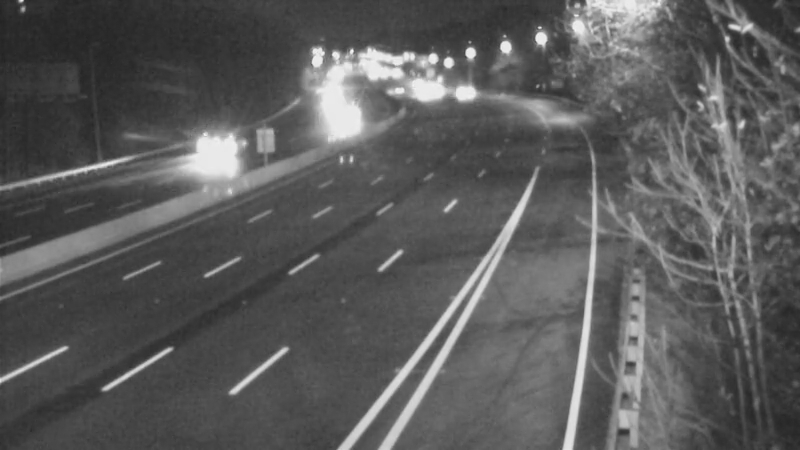vehicle: (441, 66, 491, 116), (187, 120, 237, 170), (324, 86, 374, 136)
